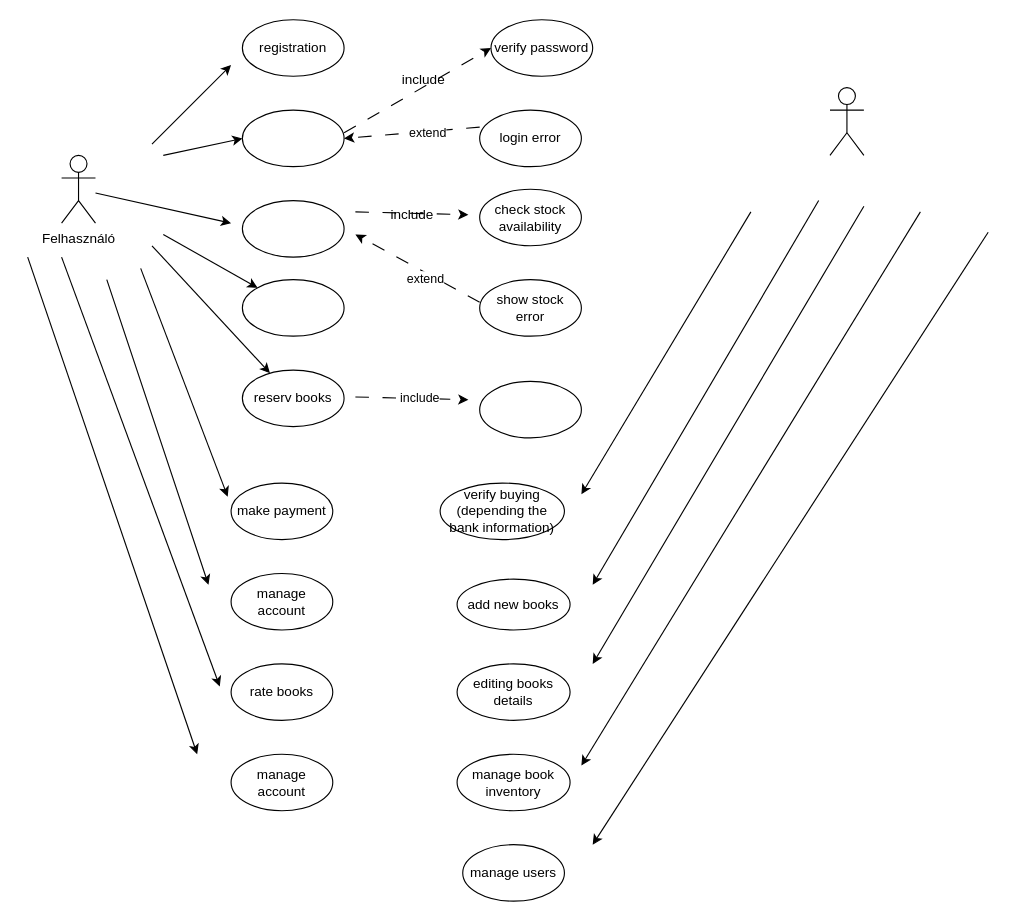
Image size: 1017x921. Some labels were removed from this diagram. Each missing label, with the box of its shape:
Book_shop (admin): (829, 86, 864, 155)
browse books: (241, 279, 344, 336)
login: (241, 109, 344, 167)
select books / add to card: (241, 199, 344, 257)
verify reserving: (479, 380, 581, 438)
